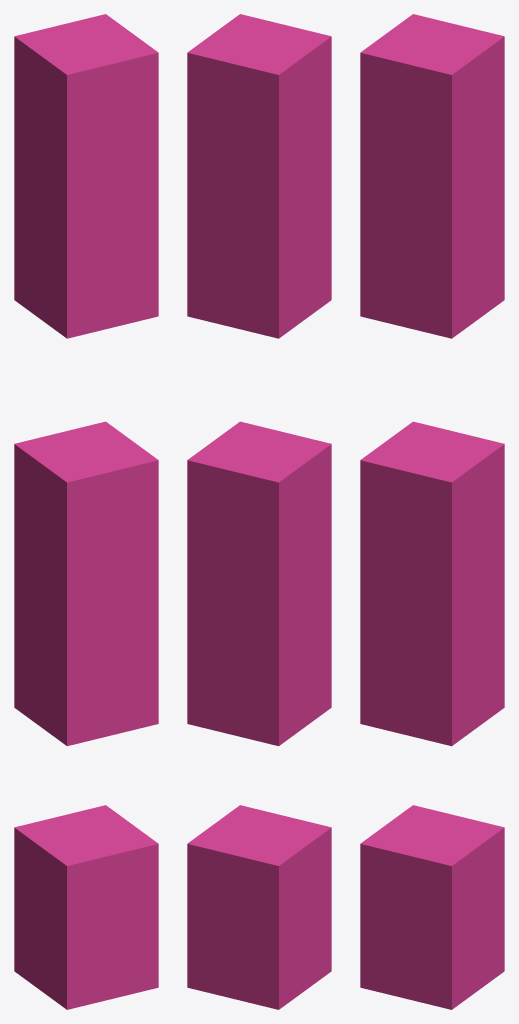
The model's file is SideBuildings1-2.obj.
3 views of the same model, side by side, from view 1: azimuth 30°, elevation 25°; view 2: azimuth 150°, elevation 25°; view 3: azimuth 330°, elevation 25° (orthographic).
Bounding box in the file's own units: 0.4 × 3.9 × 0.4.
